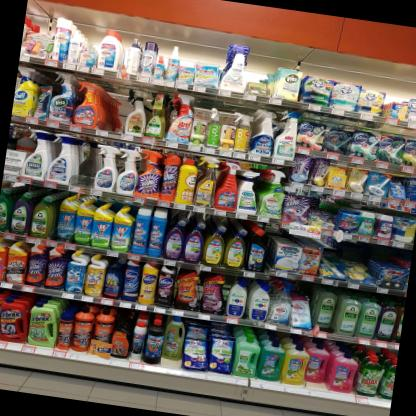empty_space: (83, 145, 98, 190), (114, 93, 129, 131)
